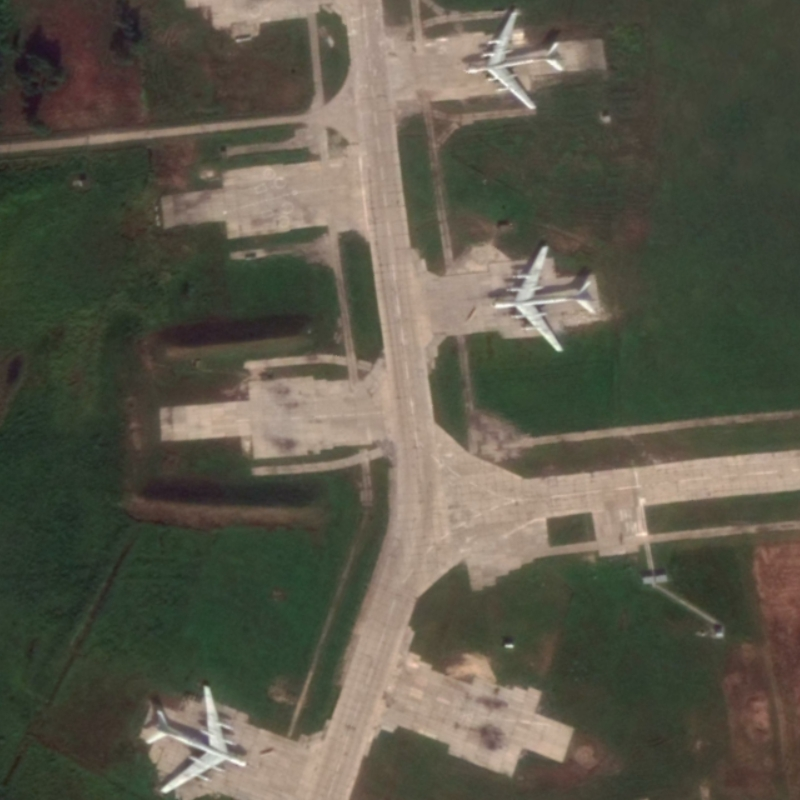A17: (143, 683, 251, 796), (490, 242, 598, 354), (462, 10, 565, 112)
